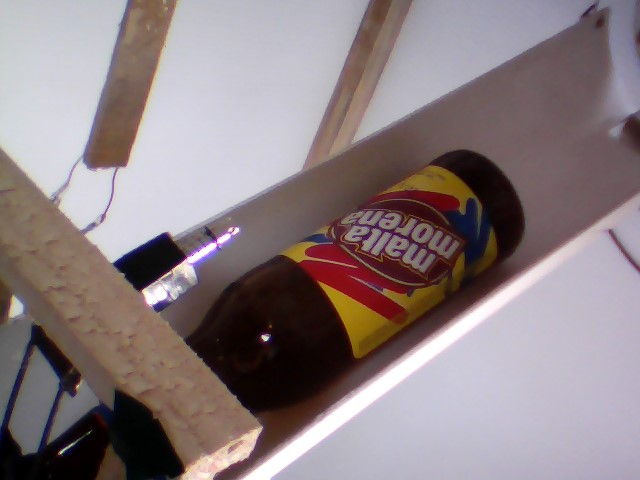vidrio: (186, 144, 532, 420)
